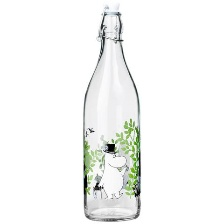bottle: (74, 0, 149, 222)
